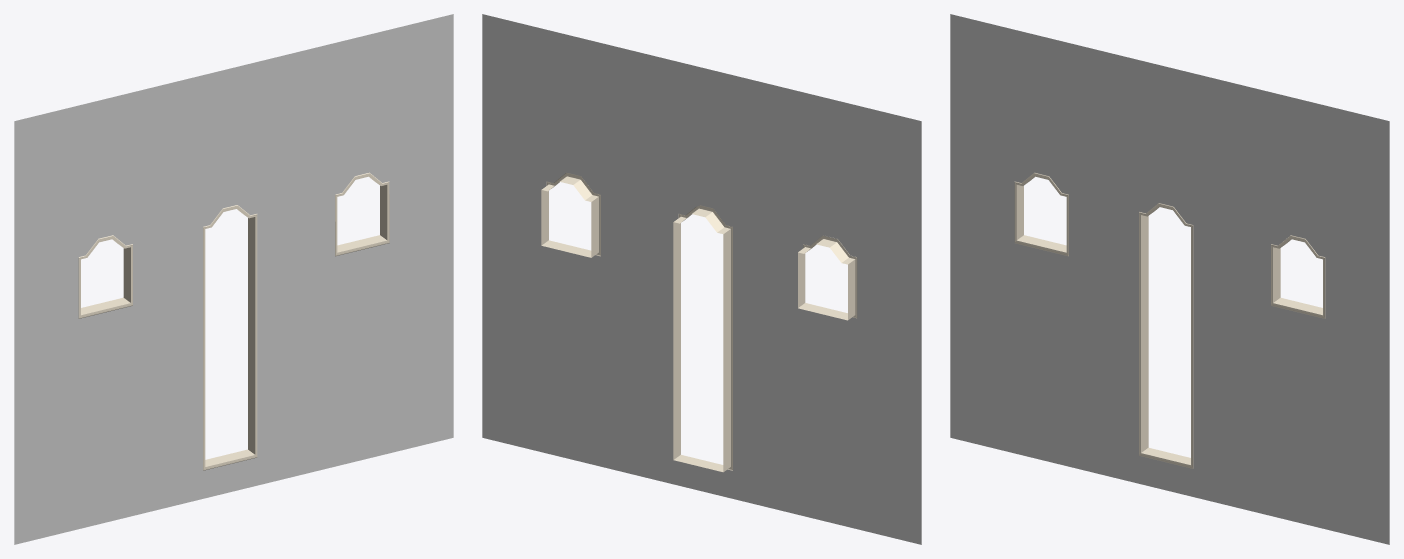
3 views of the same model, side by side, from view 1: azimuth 30°, elevation 25°; view 2: azimuth 150°, elevation 25°; view 3: azimuth 330°, elevation 25° (orthographic).
Visible parts, largest first — view 1: Wall; view 2: Wall; view 3: Wall.
Part boxes in pixels (x1,y1,x2,y2): Wall: (14, 14, 453, 544); Wall: (482, 14, 921, 544); Wall: (950, 14, 1389, 544).
Bounding box in the file's own units: 10 × 9.21 × 0.2966.
